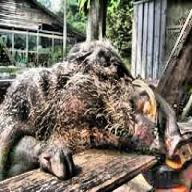boar: (0, 39, 158, 182)
